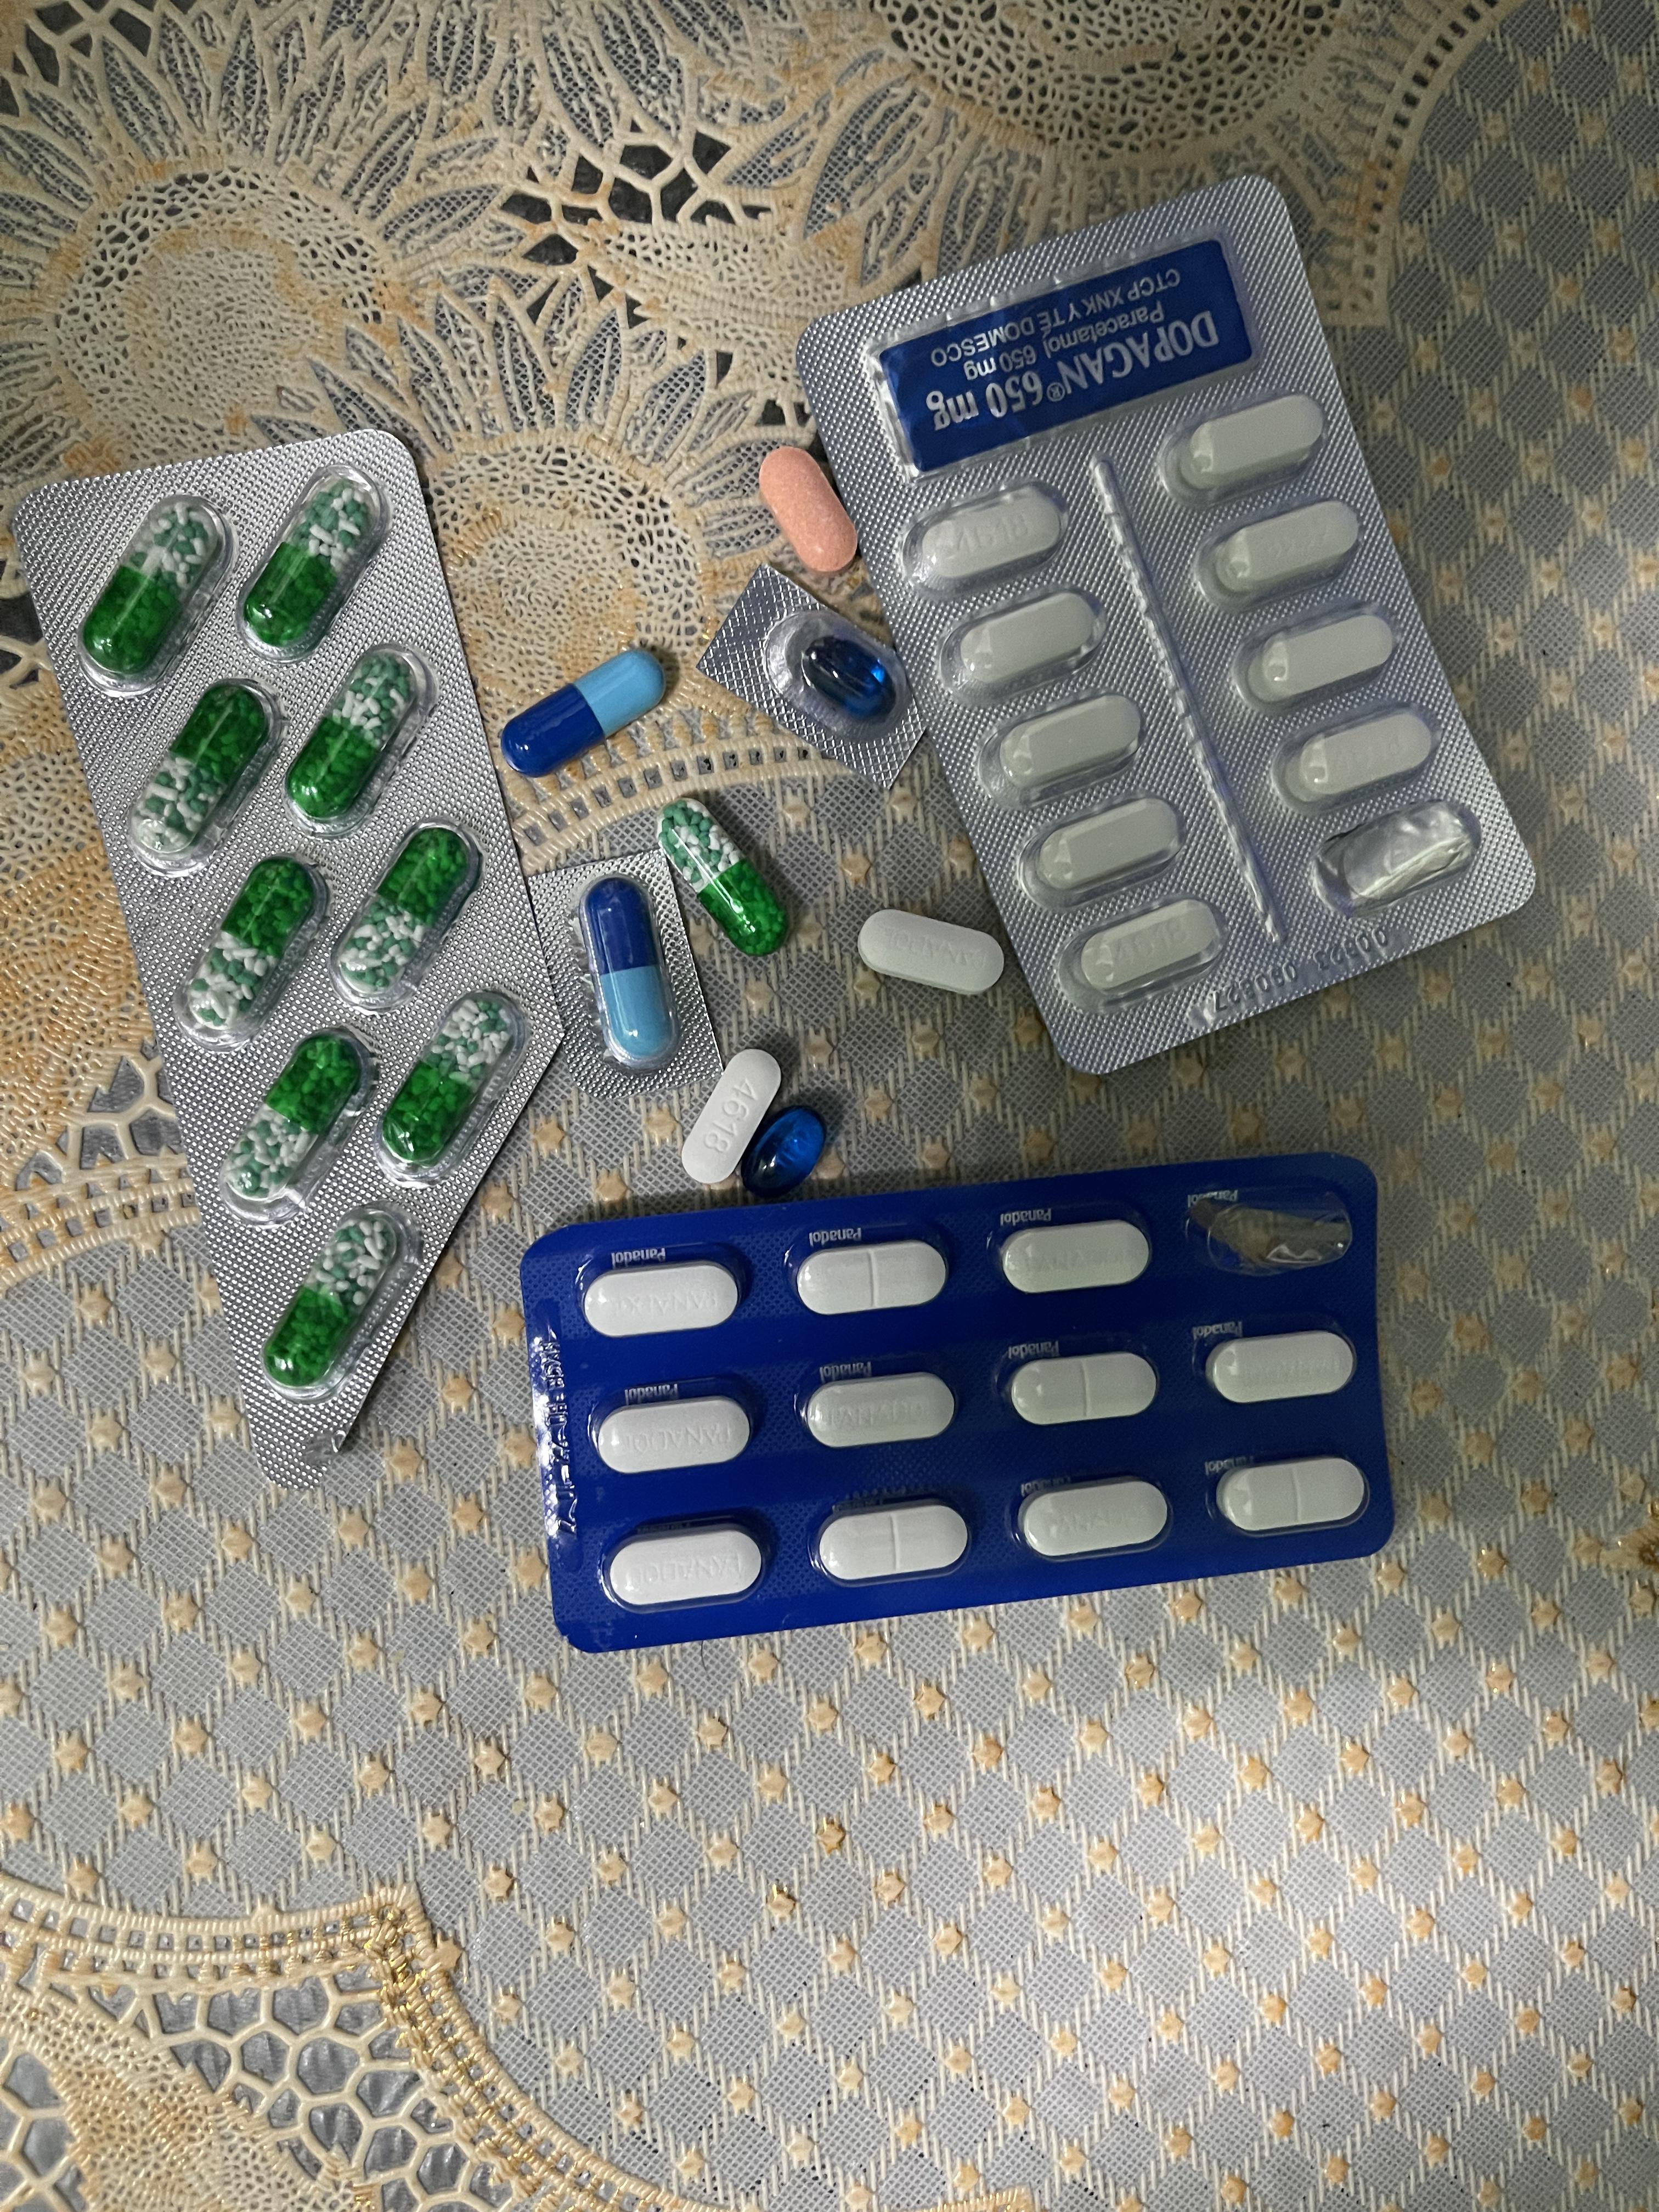Lincomyxin_500mg: (739, 1104, 826, 1195), (802, 634, 892, 716)
Loratadine_10mg: (760, 446, 859, 575)
Paracetamol_350mg: (605, 1521, 770, 1613), (817, 1494, 979, 1583), (857, 909, 1006, 1000), (594, 1393, 758, 1475), (1016, 1477, 1173, 1561), (1215, 1456, 1368, 1536), (584, 1261, 744, 1338), (803, 1372, 958, 1449), (795, 1237, 950, 1313), (1206, 1329, 1358, 1406), (999, 1219, 1152, 1294), (1009, 1352, 1157, 1426)
Paracetamol_500mg: (1157, 392, 1323, 507), (985, 690, 1143, 808), (1270, 700, 1439, 810), (1195, 496, 1361, 608), (903, 477, 1065, 590), (938, 589, 1096, 704), (1025, 791, 1182, 906), (1058, 899, 1216, 1012), (1241, 604, 1399, 711), (680, 1054, 789, 1181)
Paracetamol_650mg: (125, 679, 282, 871), (78, 495, 230, 688), (237, 469, 389, 660), (281, 646, 434, 834), (207, 1024, 371, 1200), (260, 1212, 418, 1390), (326, 822, 479, 1005), (174, 855, 326, 1040), (373, 998, 525, 1176), (659, 799, 788, 954)
pill: (498, 644, 669, 777), (577, 878, 681, 1068)
